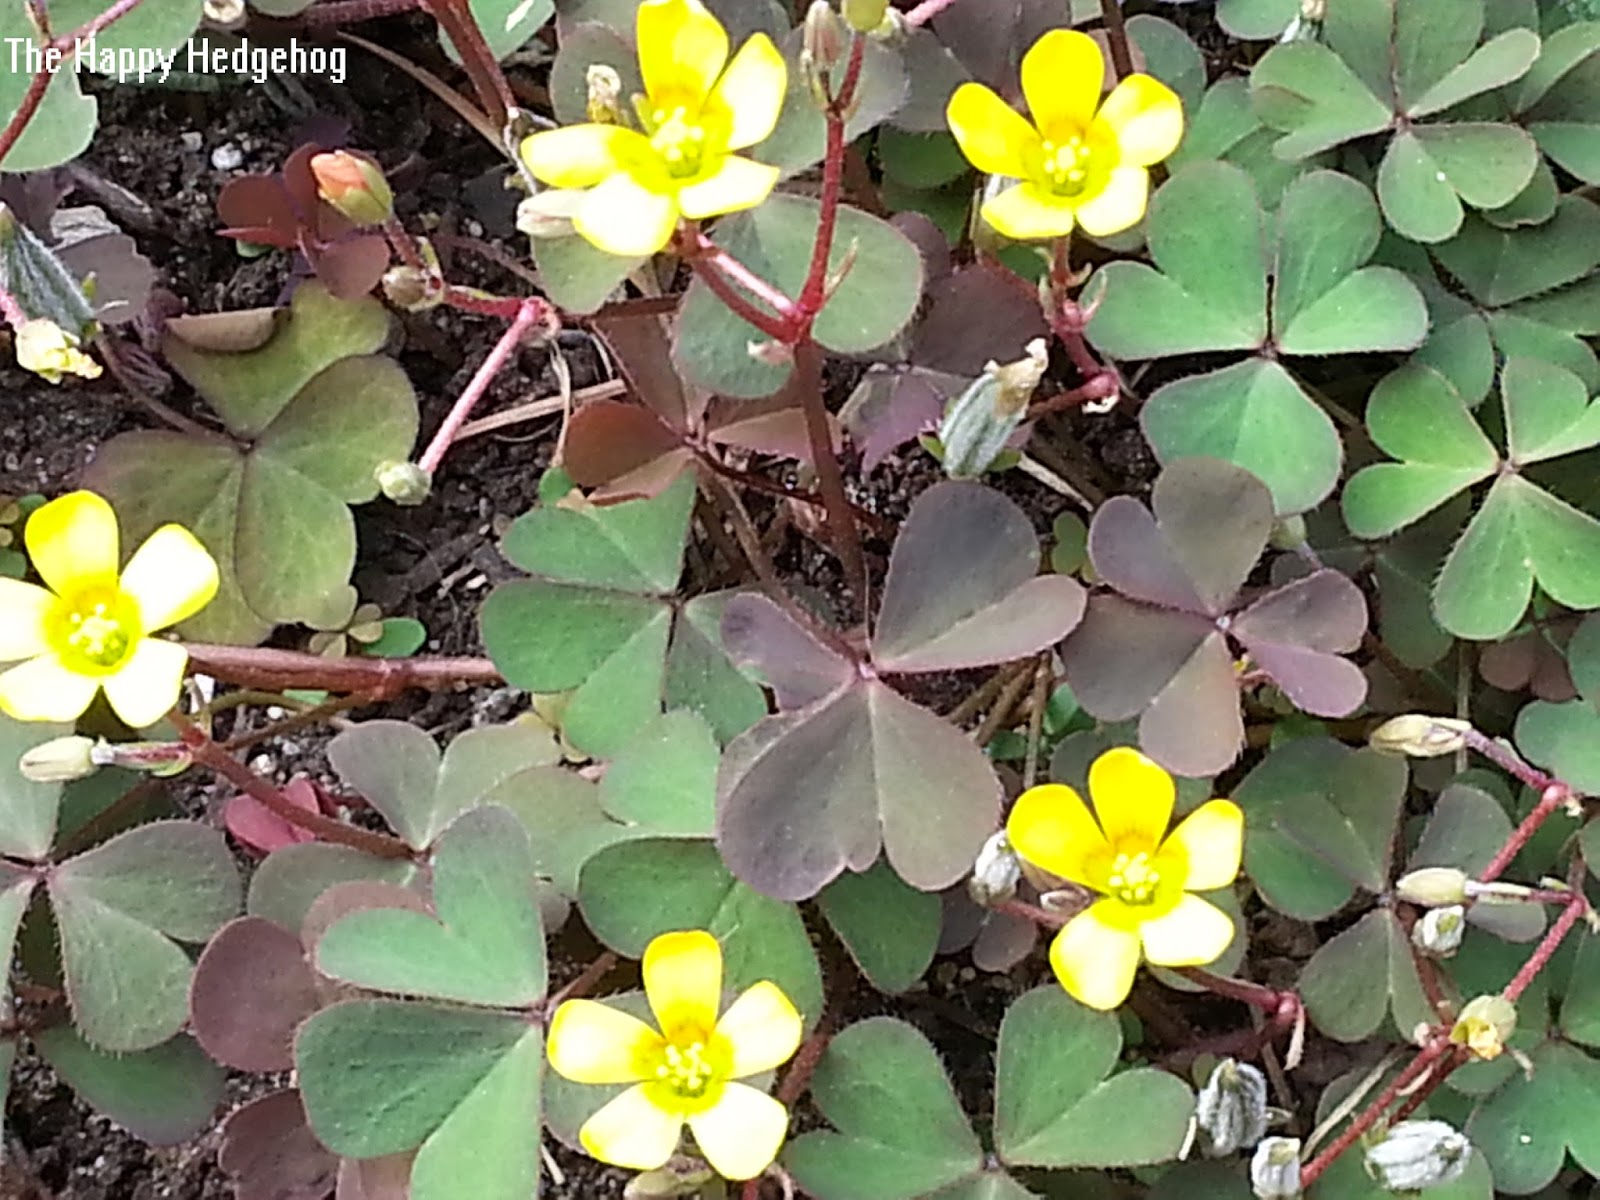oxalis: (325, 113, 1600, 1126)
